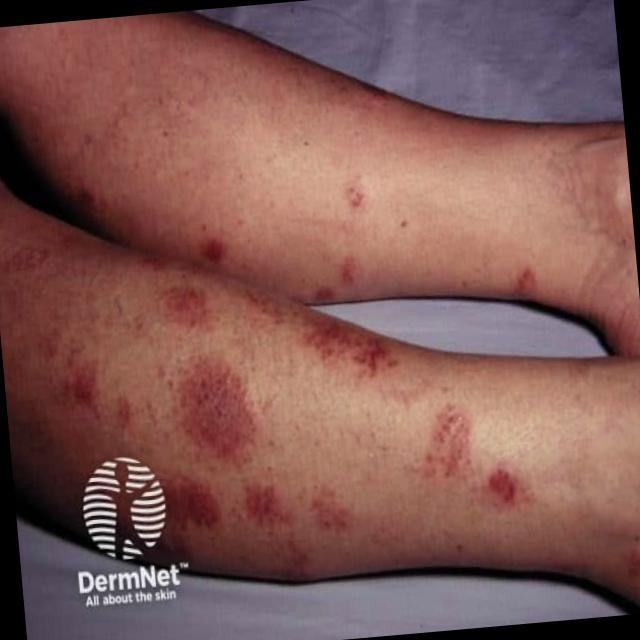Eczema: (33, 284, 522, 608)
